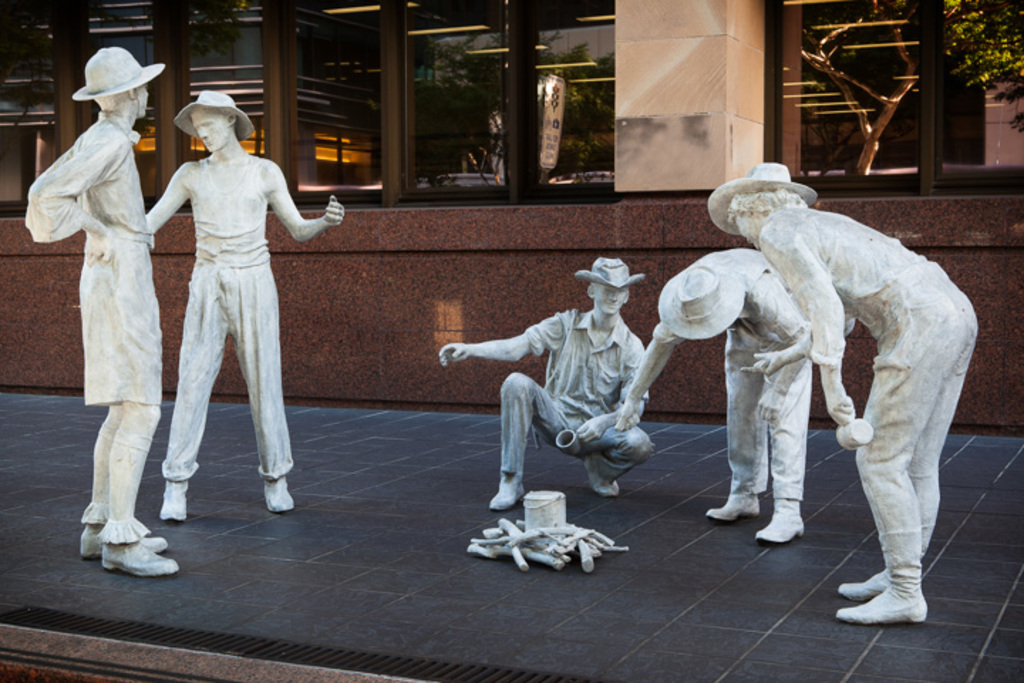person: (436, 253, 656, 512)
